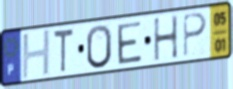E: (116, 19, 144, 66)
H: (21, 27, 52, 82), (152, 14, 180, 64)
O: (85, 23, 114, 71)
P: (182, 11, 209, 60)
T: (52, 26, 75, 75)
